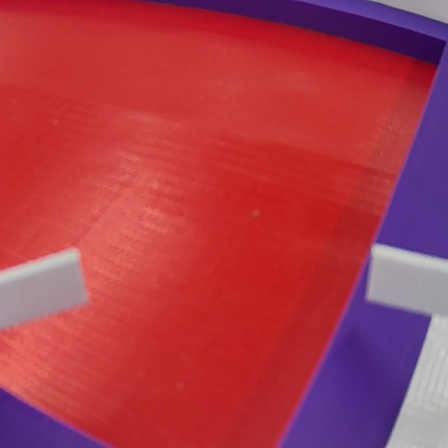red_aim: (1, 1, 447, 447)
